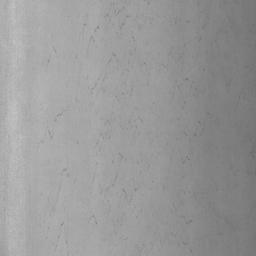Silk spot: (47, 118, 57, 139), (248, 136, 256, 159), (107, 52, 119, 64)
